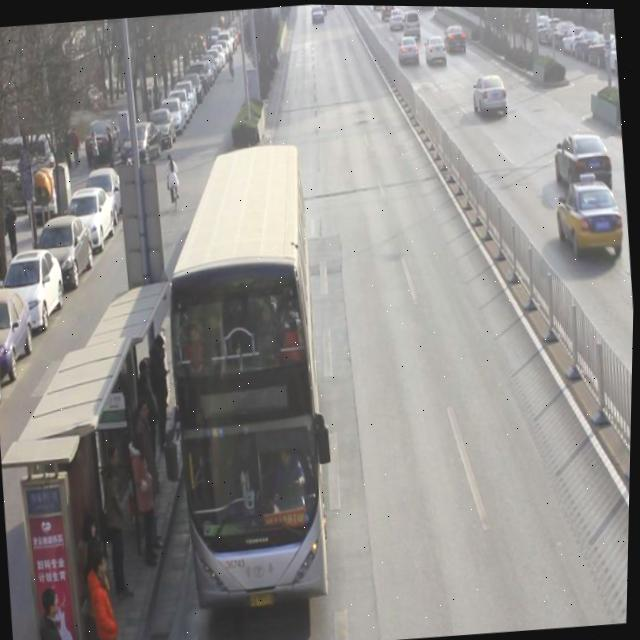car: (554, 165, 622, 259), (553, 125, 614, 193), (472, 68, 511, 119), (423, 30, 450, 66), (395, 29, 421, 65), (442, 19, 469, 52), (388, 5, 406, 29), (311, 4, 324, 20)
truck: (400, 5, 423, 39)
van: (152, 142, 340, 605)
